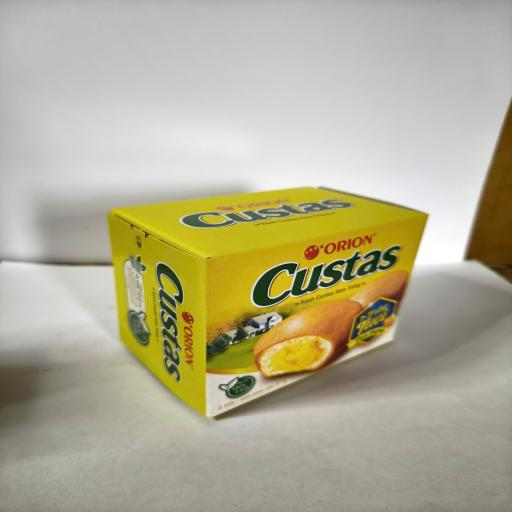custas: (107, 187, 429, 418)
